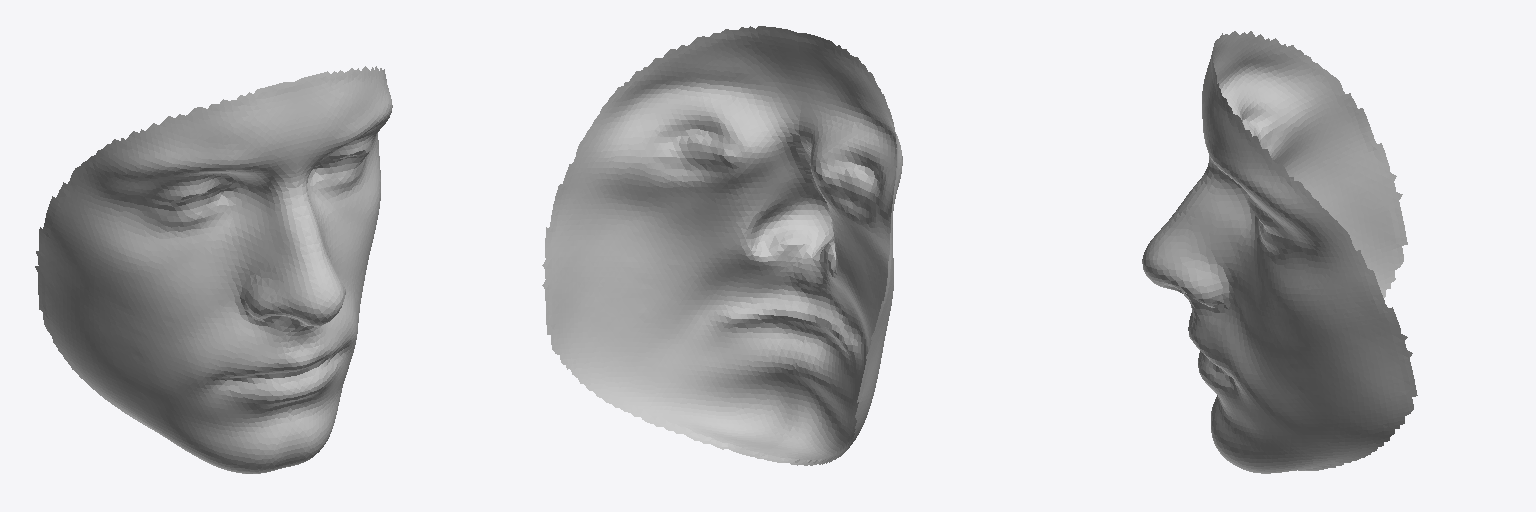
The model's file is SIMPOP_36.obj.
The picture shows the model from 3 angles: view 1: azimuth 30°, elevation 25°; view 2: azimuth 150°, elevation 25°; view 3: azimuth 270°, elevation 25°; orthographic projection.
Parts seen in each view (by area): view 1: SIMPOP_36; view 2: SIMPOP_36; view 3: SIMPOP_36.
Boxes of the visible parts, x1=… form: SIMPOP_36: x1=35, y1=66, x2=392, y2=473; SIMPOP_36: x1=542, y1=26, x2=902, y2=465; SIMPOP_36: x1=1142, y1=31, x2=1417, y2=473.
Bounding box in the file's own units: 134 × 155 × 96.66.